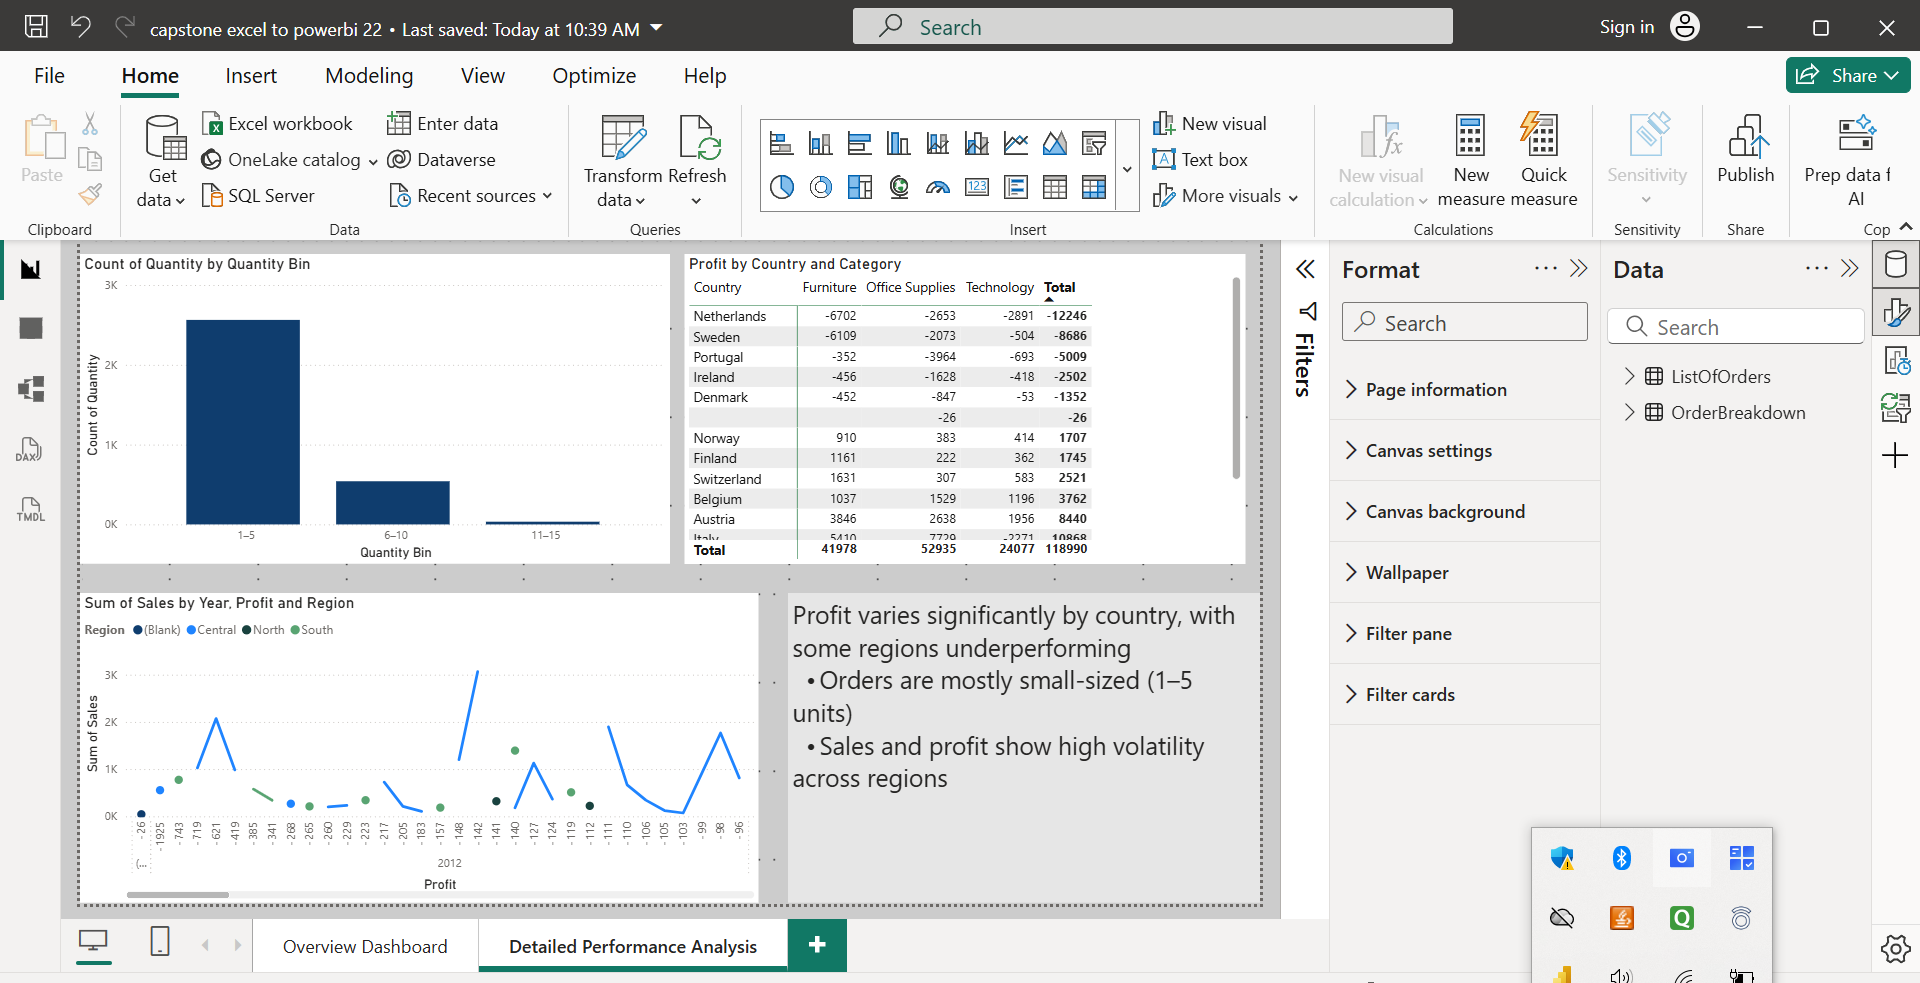

Layout of this report page (visuals, bound fields, positions):
{"tool":"powerbi","page":{"name":"Detailed Performance Analysis","canvas":[1280,720],"ordinal":1},"visuals":[{"type":"lineChart","fields":{"Series":["ListOfOrders.Region"],"Category":["ListOfOrders.Year","OrderBreakdown.Profit"],"Y":["Sum(OrderBreakdown.Sales)"]},"box":[0,384,736,336],"z":0},{"type":"clusteredColumnChart","fields":{"Category":["OrderBreakdown.Quantity Bin"],"Y":["CountNonNull(OrderBreakdown.Quantity)"]},"box":[0,16,640,336],"z":1000},{"type":"pivotTable","title":"Profit by Country and Category","fields":{"Rows":["ListOfOrders.Country"],"Columns":["OrderBreakdown.Category"],"Values":["OrderBreakdown.Total Profit"]},"box":[656,16,608,336],"z":2000},{"type":"textbox","box":[768,384,512,336],"z":3000}]}

Visuals, with their boxes on the page's 1280x720 design canvas (x1, y1, x2, y2). These are canvas units, not pixel positions in the 1920x983 screenshot, which may show the page scaled, cropped or inside an application window:
lineChart - ListOfOrders.Region x ListOfOrders.Year: l=0, t=384, r=736, b=720
clusteredColumnChart - OrderBreakdown.Quantity Bin x CountNonNull(OrderBreakdown.Quantity): l=0, t=16, r=640, b=352
"Profit by Country and Category" pivotTable: l=656, t=16, r=1264, b=352
textbox: l=768, t=384, r=1280, b=720
